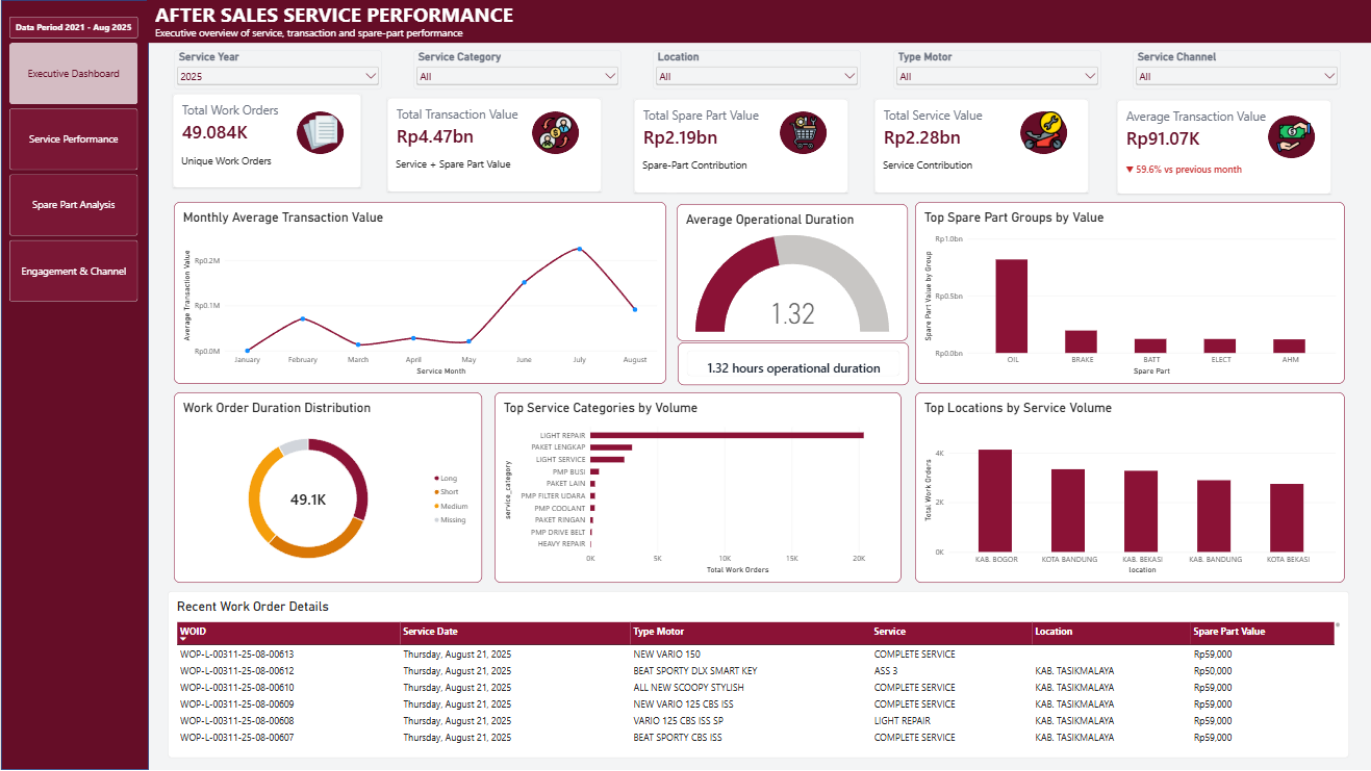

This screenshot's page, from the dashboard's own definition file:
{"tool":"powerbi","page":{"name":"Executive Dashboard","canvas":[2560,1440],"ordinal":0},"visuals":[{"type":"shape","box":[0,0,276.1,1439.1],"z":0},{"type":"pageNavigator","box":[16,80,240,608],"z":1000},{"type":"cardVisual","title":"Total Work Order","fields":{"Data":["Fact_Work_Order.Total Work Orders"]},"box":[320,176,352,176],"z":2000},{"type":"clusteredBarChart","title":"Top Service Categories by Volume","fields":{"Category":["Fact_Work_Order.service_category"],"Y":["Fact_Work_Order.Total Work Orders"]},"box":[923,734,760,356],"z":3000},{"type":"cardVisual","title":"Total Work Order","fields":{"Data":["Fact_Work_Order.Total Service Value"]},"box":[1632,184,400,176],"z":4000},{"type":"lineChart","title":"Monthly Average Transaction Value","fields":{"Y":["Fact_Work_Order.Average Transaction Value"],"Category":["Fact_Work_Order.service_month_name"]},"box":[323,377.8,920.1,340.4],"z":5000},{"type":"cardVisual","title":"Total Work Order","fields":{"Data":["Fact_Work_Order.Total Spare Part Value"]},"box":[1182,184,400,176],"z":6000},{"type":"donutChart","title":"Work Order Duration Distribution","fields":{"Y":["Fact_Work_Order.Total Work Orders"],"Category":["Fact_Work_Order.service_duration_category"]},"box":[322,734,576,356],"z":7000},{"type":"cardVisual","title":"Total Work Order","fields":{"Data":["Fact_Work_Order.Total Transaction Value"]},"box":[722,182,400,176],"z":8000},{"type":"gauge","fields":{"Y":["Fact_Work_Order.Average Operational Duration"]},"box":[1262,380.7,432,256],"z":9000},{"type":"cardVisual","title":"Total Work Order","fields":{"Data":["Fact_Work_Order.Average Transaction Value"]},"box":[2086,186,400,176],"z":10000},{"type":"clusteredColumnChart","title":"Top Locations by Service Volume","fields":{"Category":["Fact_Work_Order.location"],"Y":["Fact_Work_Order.Total Work Orders"]},"box":[1708,734,803.3,356.5],"z":11000},{"type":"tableEx","title":"Recent Work Order Details","fields":{"Values":["Fact_Work_Order.woid","Fact_Work_Order.service_date","Fact_Work_Order.type_motor","Fact_Work_Order.service_category","Fact_Work_Order.location","Sum(Fact_Work_Order.total_spare_part_value)"]},"box":[312,1104,2208,312],"z":12000},{"type":"shape","box":[272,0,2288,80],"z":13000},{"type":"clusteredColumnChart","title":"Top Spare Part Groups by Value","fields":{"Category":["Dim_Parts.kelompok_barang"],"Y":["WO_Part_Bridge.Spare Part Value by Group"]},"box":[1708,377.8,803.4,340.4],"z":14000},{"type":"slicer","fields":{"Values":["Fact_Work_Order.service_year"]},"box":[323,94,389.1,73.9],"z":15000},{"type":"slicer","fields":{"Values":["Fact_Work_Order.service_category"]},"box":[770.7,94,389.1,73.9],"z":16000},{"type":"slicer","fields":{"Values":["Fact_Work_Order.location"]},"box":[1218.5,94,389.1,73.9],"z":17000},{"type":"slicer","fields":{"Values":["Fact_Work_Order.type_motor"]},"box":[1666.2,94,389.1,73.9],"z":18000},{"type":"slicer","fields":{"Values":["Fact_Work_Order.service_channel"]},"box":[2114,94,389.1,73.9],"z":19000},{"type":"cardVisual","fields":{"Data":["Dim_Parts.Operational Duration Display"]},"box":[1264,640,432,80],"z":20000},{"type":"textbox","box":[288,0,1216,80],"z":21000},{"type":"shape","box":[16,32,240,40],"z":22000,"group":"g1"},{"type":"shape","box":[552,208,88,80],"z":22000},{"type":"textbox","box":[16,40,240,24],"z":23000,"group":"g1"},{"type":"image","box":[552,216,88,64],"z":23000},{"type":"cardVisual","fields":{"Data":["Fact_Work_Order.MoM Average Transaction Display"]},"box":[2086,282,384,64],"z":24000},{"type":"shape","box":[2368,216,88,80],"z":25000},{"type":"image","box":[2376,224,80,64],"z":26000},{"type":"group","id":"g1","title":"Group 1","box":[16,32,240,32],"z":27000},{"type":"shape","box":[992,208,88,80],"z":28000},{"type":"shape","box":[1456,208,88,80],"z":29000},{"type":"shape","box":[1904,208,88,80],"z":30000},{"type":"image","box":[1456,216,88,64],"z":31000},{"type":"image","box":[1904,208,88,72],"z":32000},{"type":"image","box":[992,216,88,64],"z":33000},{"type":"textbox","box":[336,288,304,32],"z":34000},{"type":"textbox","box":[738,294,304,32],"z":35000},{"type":"textbox","box":[1198,296,304,32],"z":36000},{"type":"textbox","box":[1648,296,304,32],"z":37000}]}

Visuals, with their boxes on the page's 2560x1440 design canvas (x1, y1, x2, y2). These are canvas units, not pixel positions in the 1371x771 screenshot, which may show the page scaled, cropped or inside an application window:
shape: 0/0/276/1439
pageNavigator: 16/80/256/688
"Total Work Order" cardVisual: 320/176/672/352
"Top Service Categories by Volume" clusteredBarChart: 923/734/1683/1090
"Total Work Order" cardVisual: 1632/184/2032/360
"Monthly Average Transaction Value" lineChart: 323/378/1243/718
"Total Work Order" cardVisual: 1182/184/1582/360
"Work Order Duration Distribution" donutChart: 322/734/898/1090
"Total Work Order" cardVisual: 722/182/1122/358
gauge - Fact_Work_Order.Average Operational Duration: 1262/381/1694/637
"Total Work Order" cardVisual: 2086/186/2486/362
"Top Locations by Service Volume" clusteredColumnChart: 1708/734/2511/1090
"Recent Work Order Details" tableEx: 312/1104/2520/1416
shape: 272/0/2560/80
"Top Spare Part Groups by Value" clusteredColumnChart: 1708/378/2511/718
slicer - Fact_Work_Order.service_year: 323/94/712/168
slicer - Fact_Work_Order.service_category: 771/94/1160/168
slicer - Fact_Work_Order.location: 1218/94/1608/168
slicer - Fact_Work_Order.type_motor: 1666/94/2055/168
slicer - Fact_Work_Order.service_channel: 2114/94/2503/168
cardVisual - Dim_Parts.Operational Duration Display: 1264/640/1696/720
textbox: 288/0/1504/80
shape: 16/32/256/72
shape: 552/208/640/288
textbox: 16/40/256/64
image: 552/216/640/280
cardVisual - Fact_Work_Order.MoM Average Transaction Display: 2086/282/2470/346
shape: 2368/216/2456/296
image: 2376/224/2456/288
"Group 1" group: 16/32/256/64
shape: 992/208/1080/288
shape: 1456/208/1544/288
shape: 1904/208/1992/288
image: 1456/216/1544/280
image: 1904/208/1992/280
image: 992/216/1080/280
textbox: 336/288/640/320
textbox: 738/294/1042/326
textbox: 1198/296/1502/328
textbox: 1648/296/1952/328
